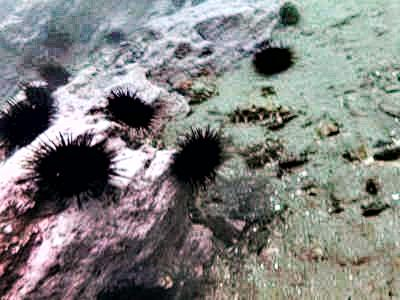urchin: (21, 129, 112, 207), (172, 124, 220, 192), (105, 85, 158, 137), (3, 96, 52, 149), (94, 272, 174, 295), (22, 81, 61, 116), (251, 42, 288, 75)
